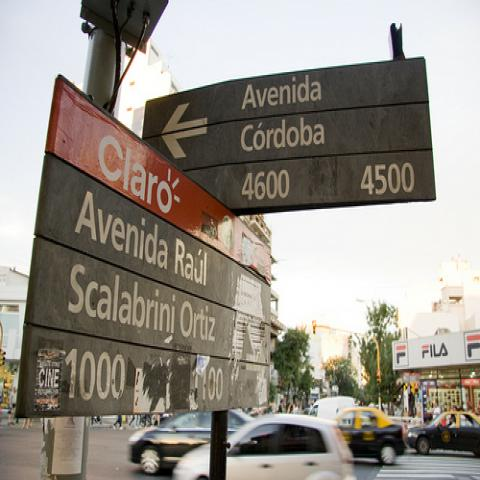car: (174, 418, 352, 475), (126, 408, 257, 475), (332, 404, 406, 468), (406, 411, 479, 458)
truck: (306, 391, 362, 424)
